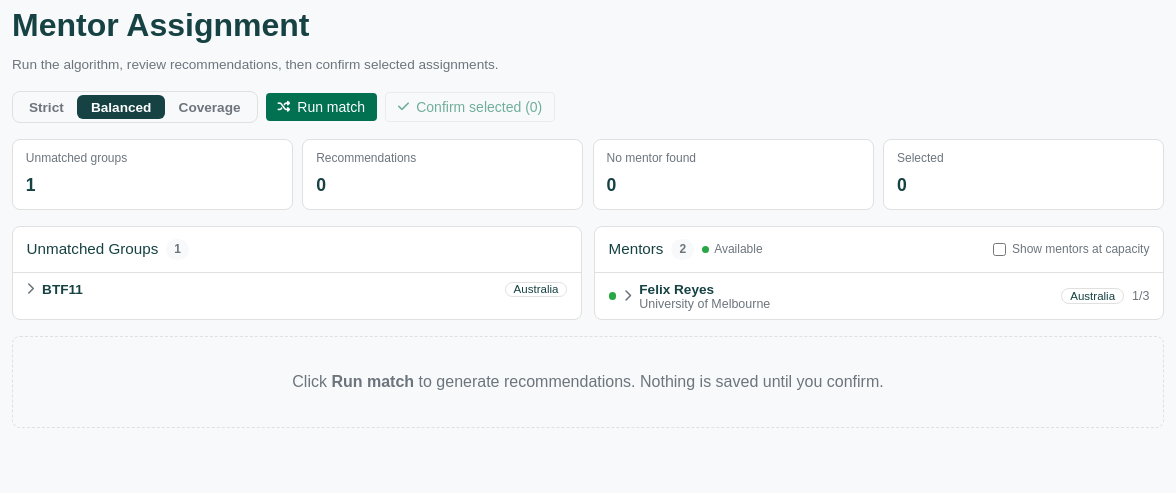
Test: MentorMatchingPanel › replaces the reference tables with the recommendations table on run
What coordinates should you click on to do the following:
click the button "Run match"
I would click on:
 (321, 107)
Its box is [266, 93, 377, 121].
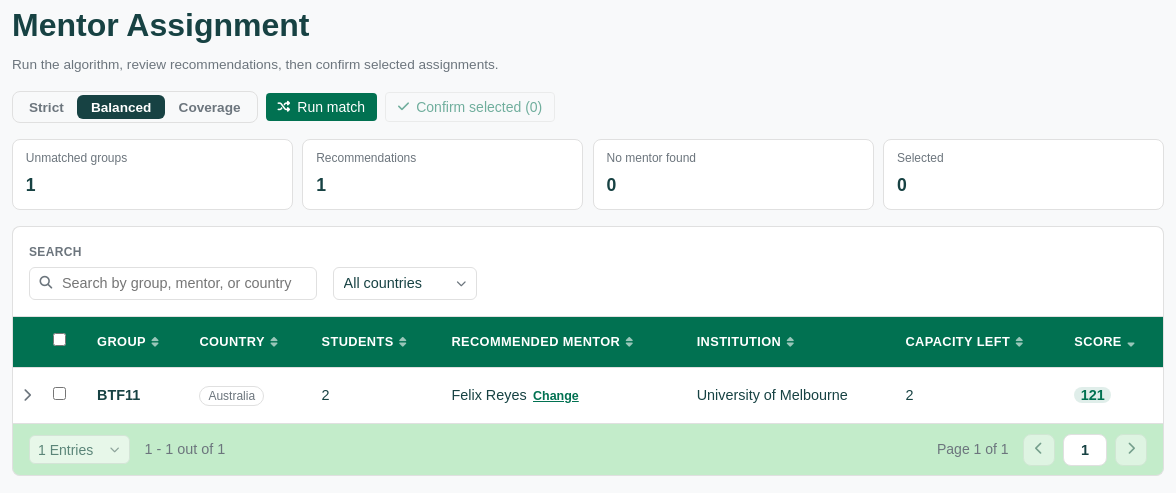
Expected: the text "Unmatched Groups" is not shown
Now the text "Recommended Mentor" is shown, box [452, 332, 633, 352]
Now the text "Capacity left" is shown, box [905, 332, 1023, 352]
